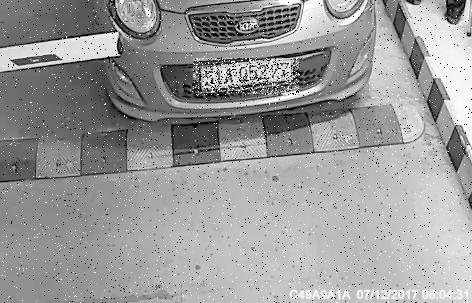License-plate: (195, 60, 302, 97)
